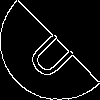U: (25, 25, 83, 83)
